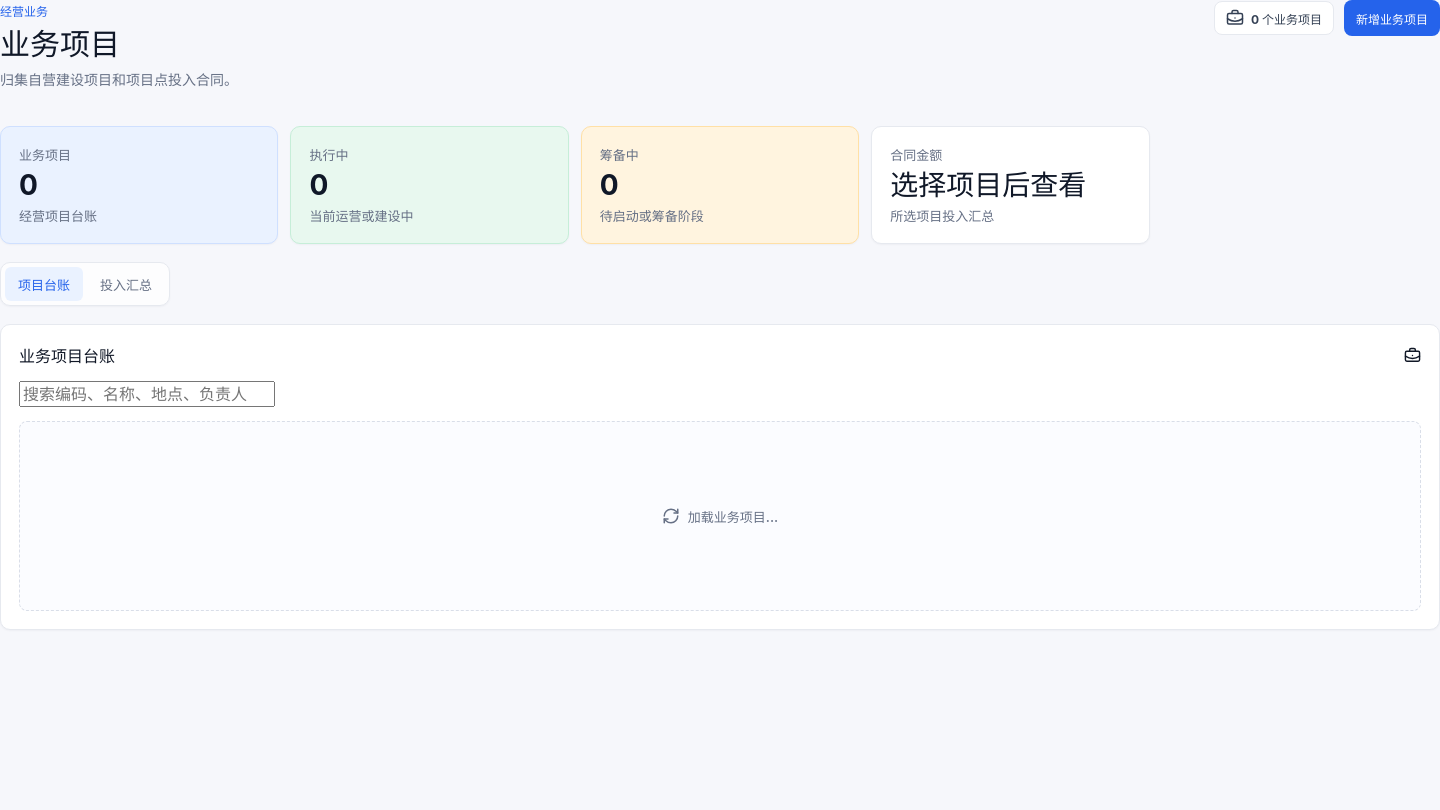
Test: BusinessProjectsWorkspace 保存反馈 › 保存成功后弹出 toast 确认
Step 1. Click the button "新增业务项目" → coordinates (1392, 18), box x1=1344 y1=0 x2=1439 y2=36
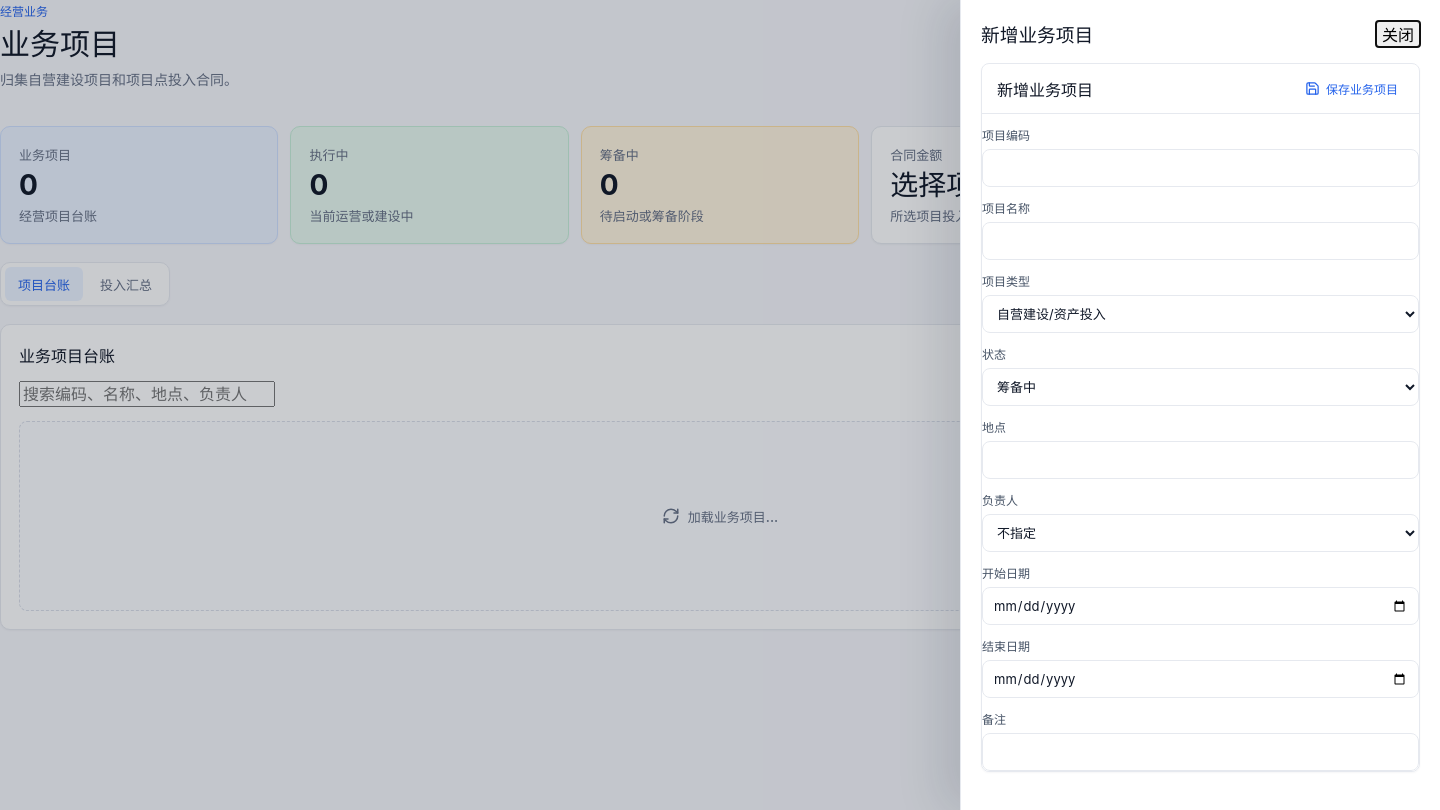
Step 2. Type "BP-YZ-CK-002" into the field labelled "项目编码" → coordinates (1200, 168), box x1=982 y1=149 x2=1419 y2=187
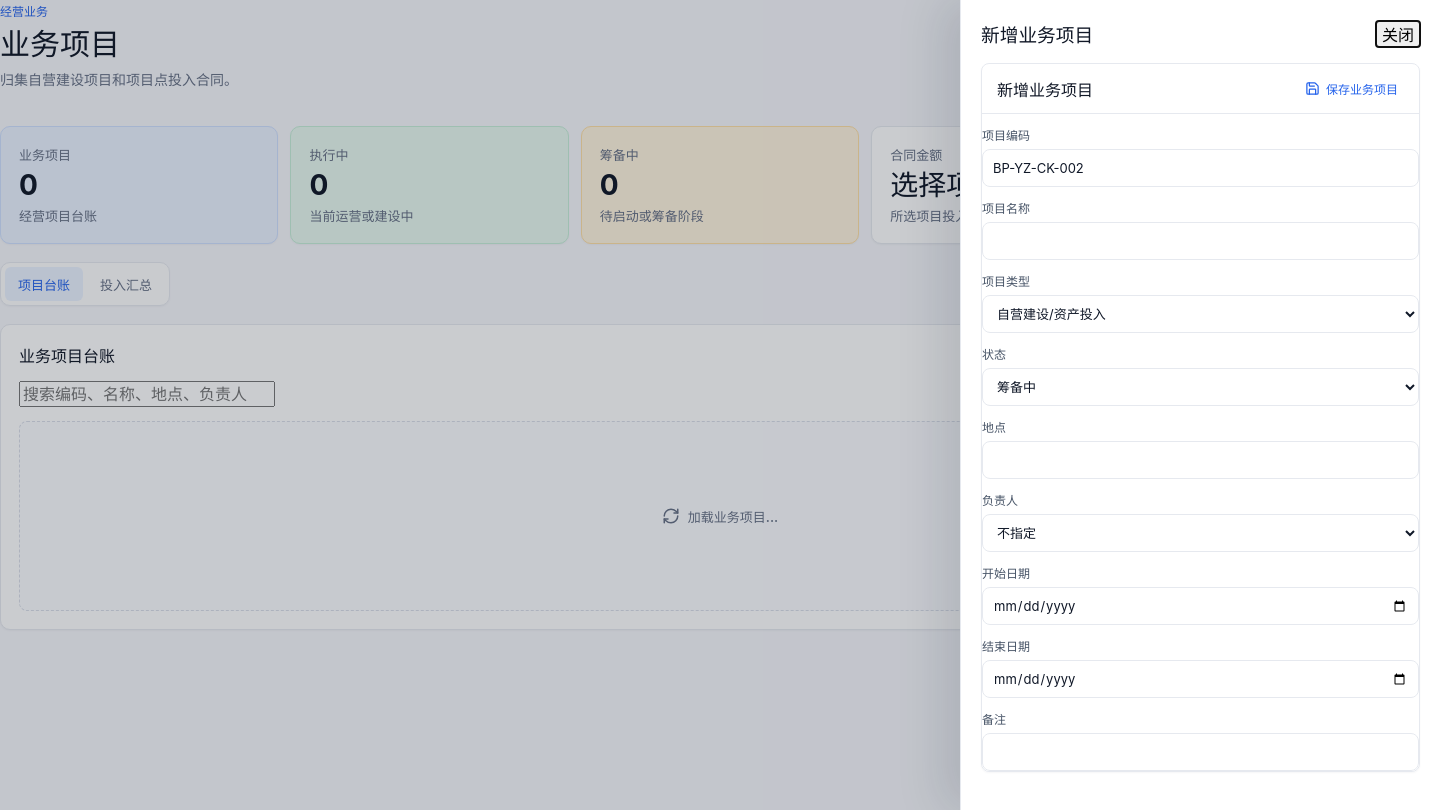
Step 3. Type "扬中中央厨房二期" into the field labelled "项目名称" → coordinates (1200, 241), box x1=982 y1=222 x2=1419 y2=260
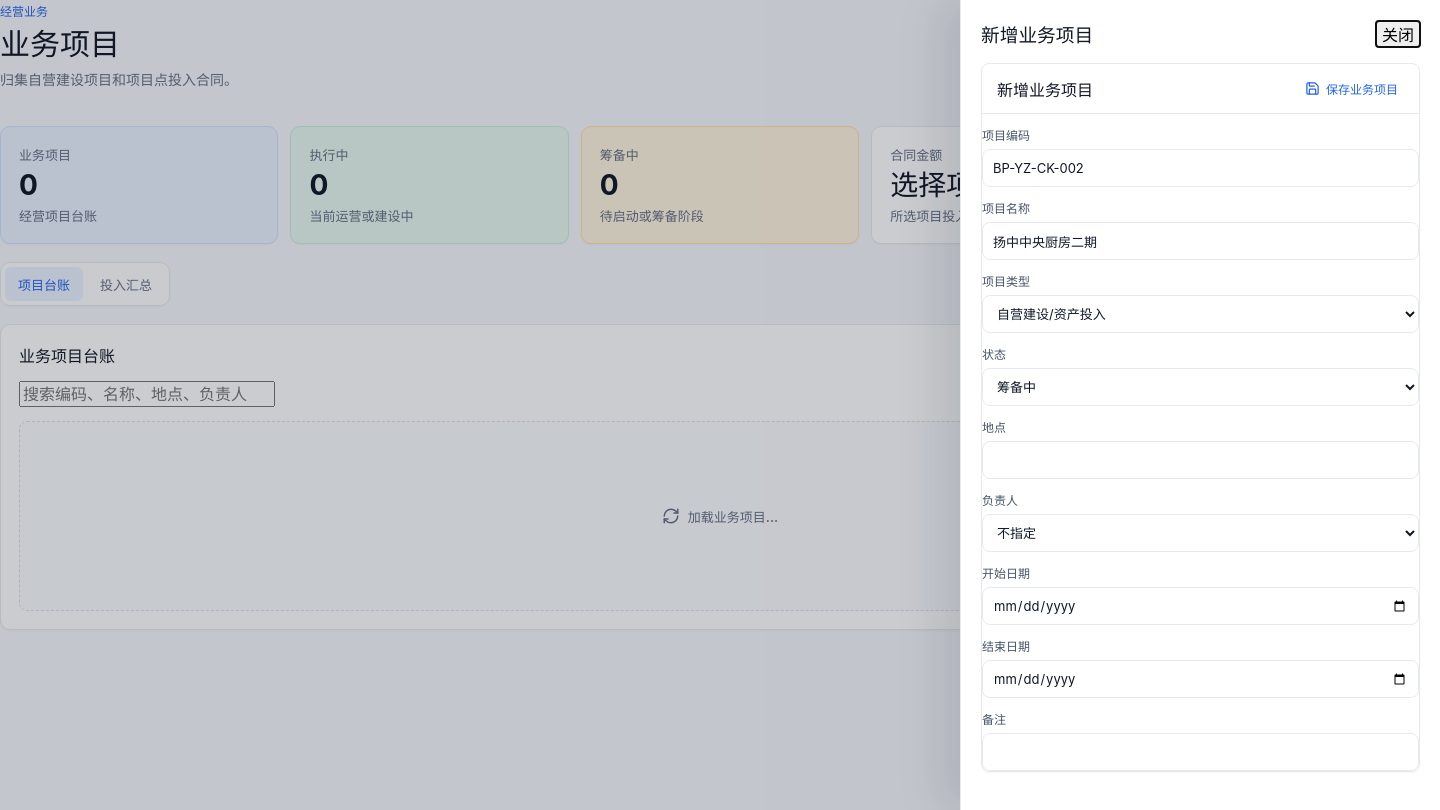
Step 4. Click the button "保存业务项目" → coordinates (1352, 88), box x1=1299 y1=79 x2=1404 y2=98
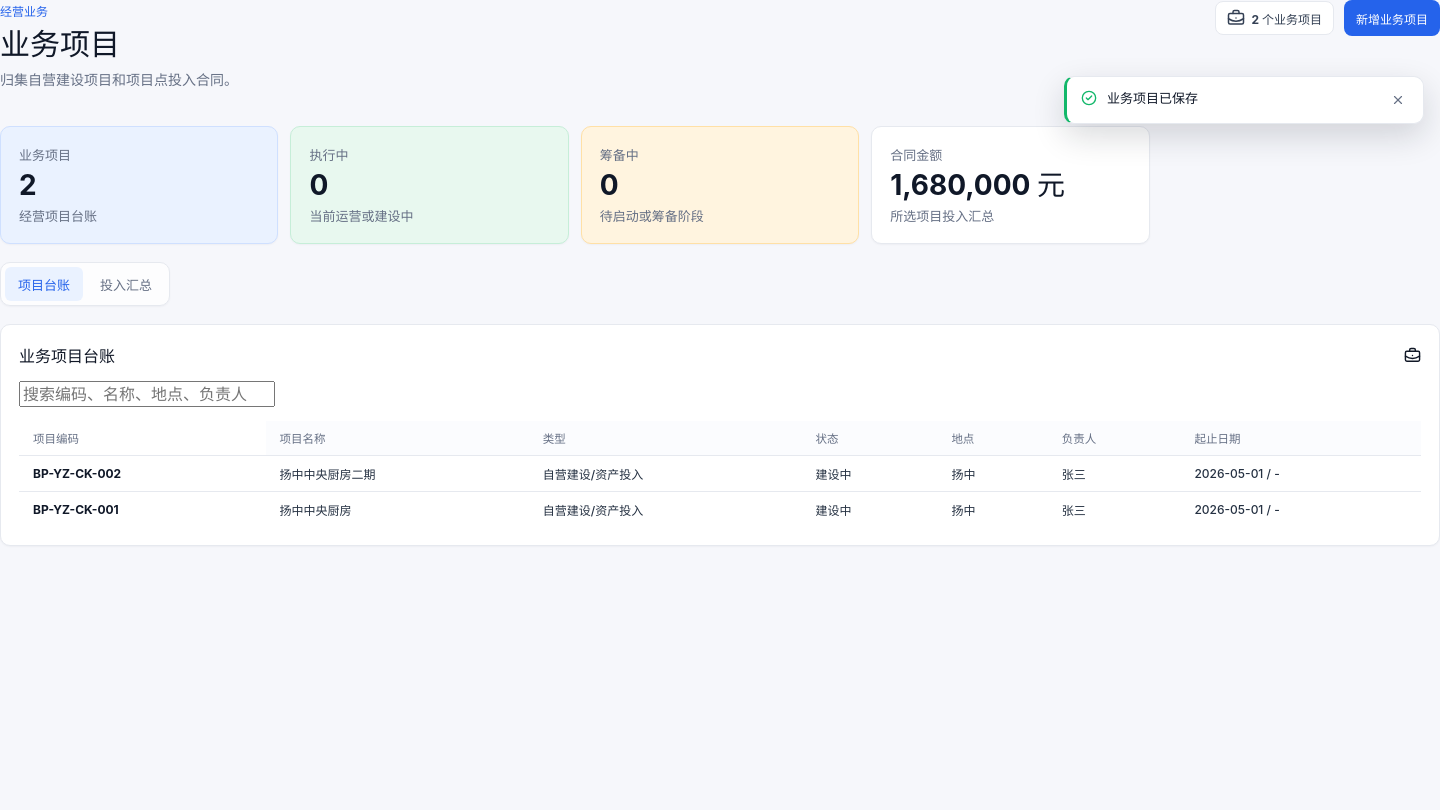
Check: the message reads "业务项目已保存", box x1=1107 y1=90 x2=1198 y2=106
